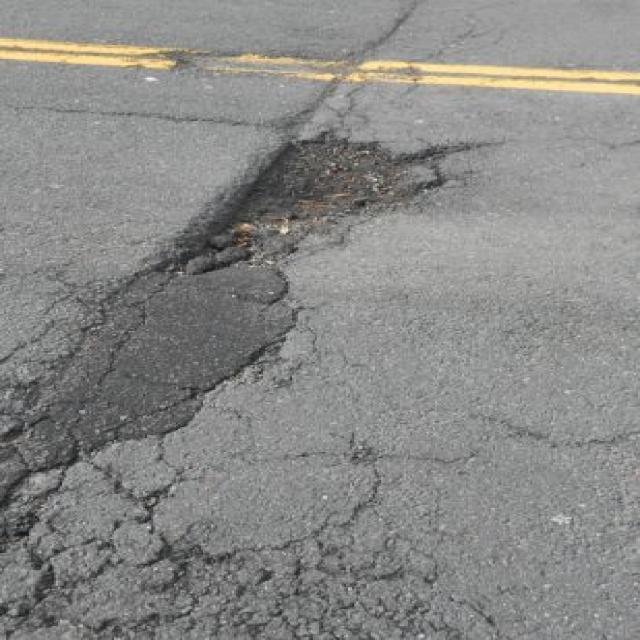pothole: (134, 129, 487, 278)
